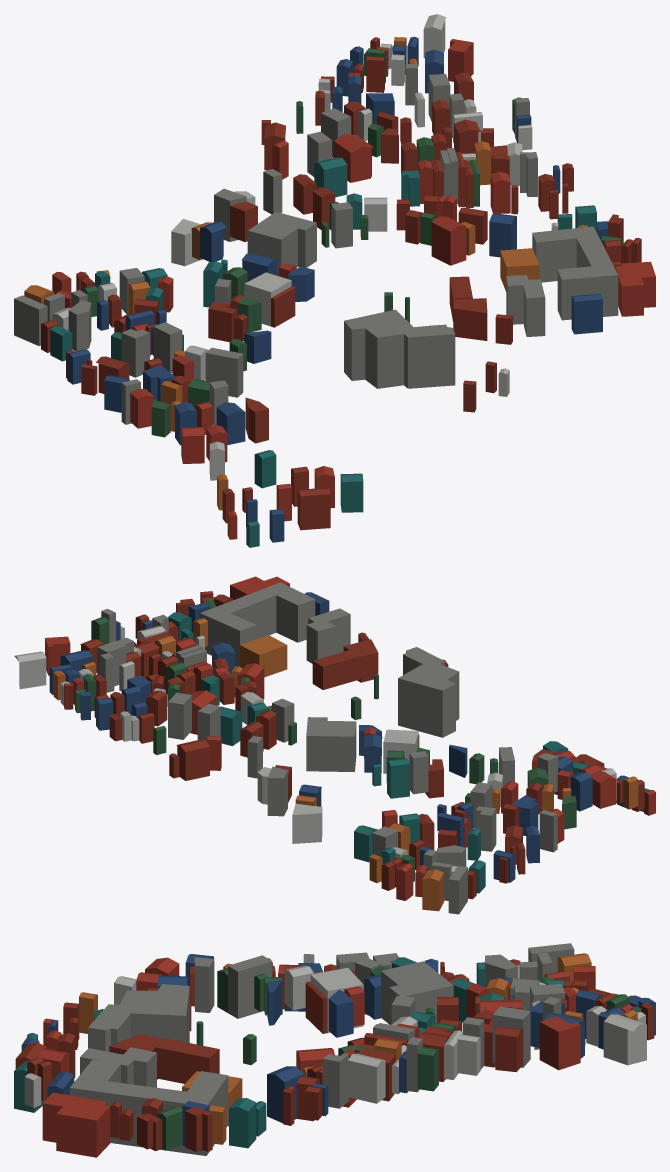
File: near-17-109431-59477.a55651de.glb
The picture shows the model from 3 angles, top to bottom: view 1: azimuth 30°, elevation 25°; view 2: azimuth 150°, elevation 25°; view 3: azimuth 270°, elevation 25°; orthographic projection. The views are drawn at different scales.
Size of the model in its own units: 302 by 152 by 298.
